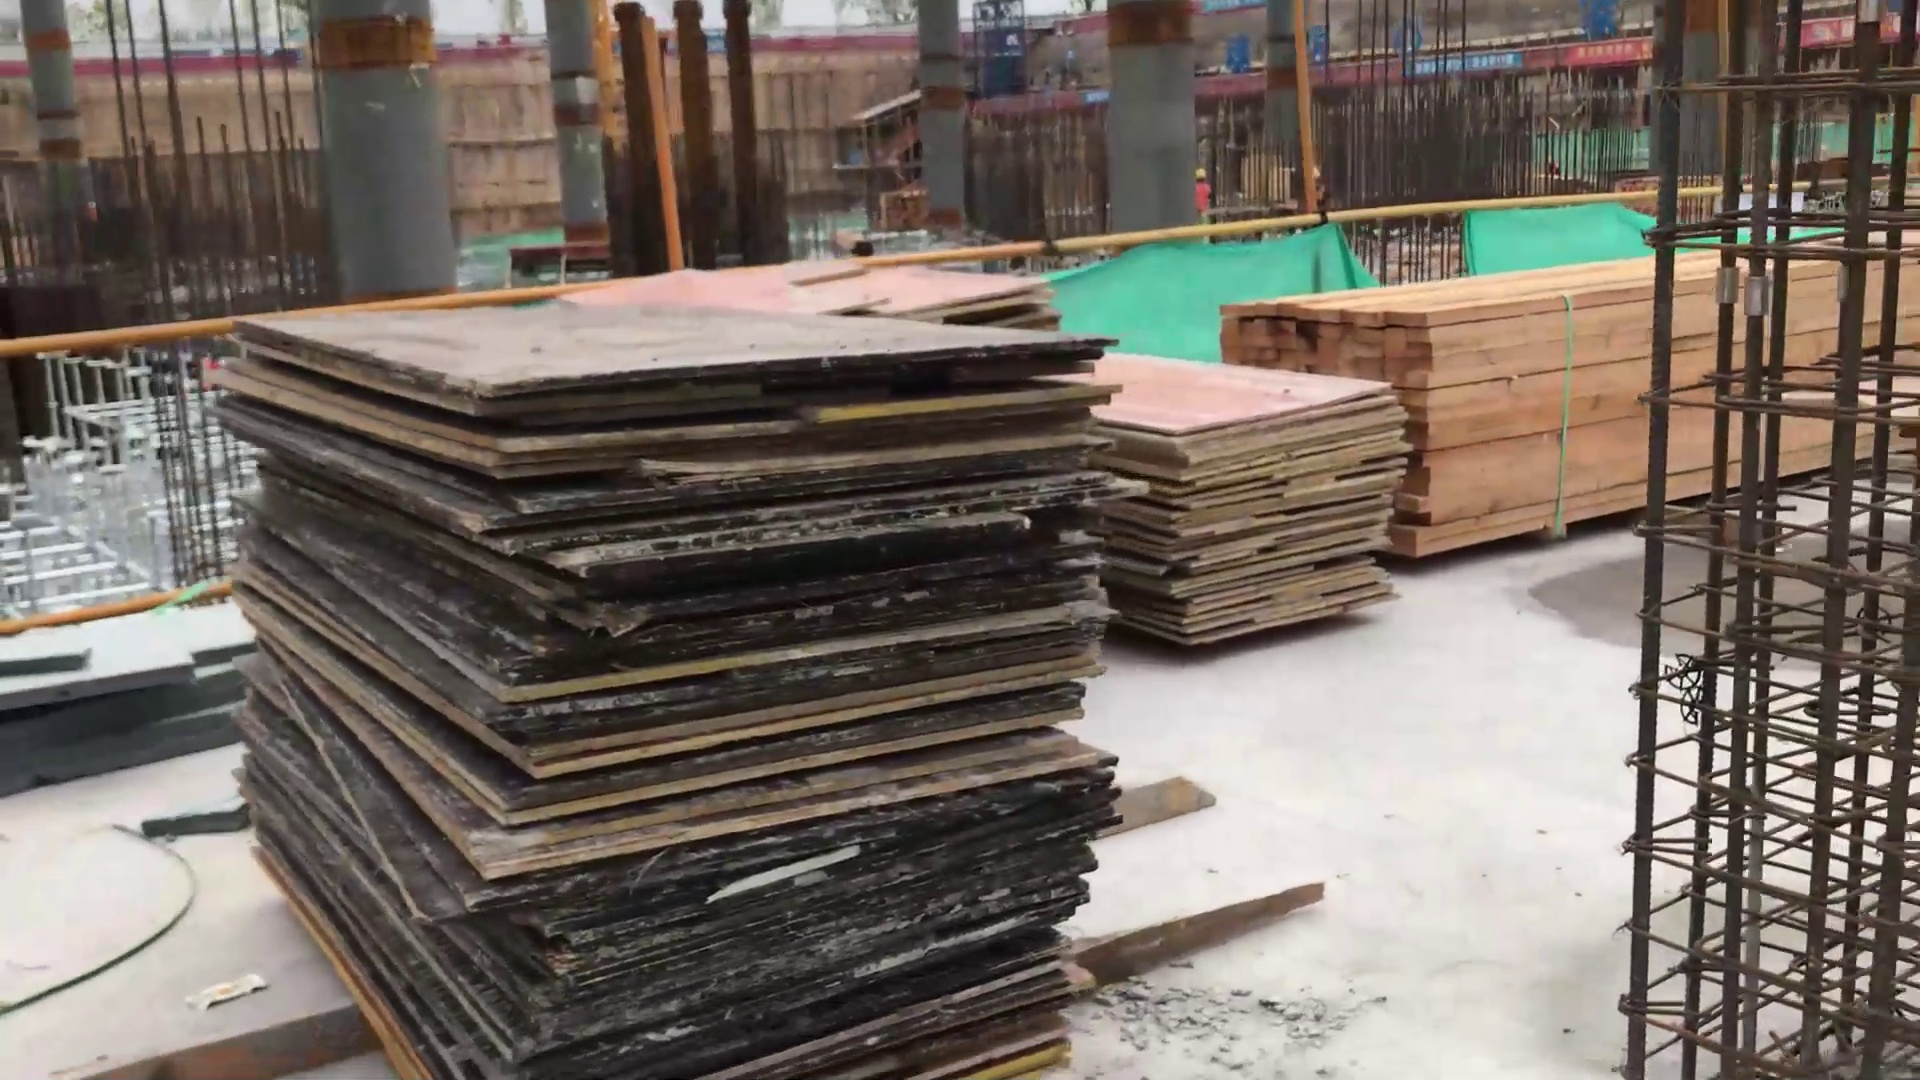helmet: (1305, 165, 1323, 179), (1197, 166, 1206, 182)
person: (1298, 158, 1326, 207), (1192, 172, 1212, 217)
vest: (1306, 183, 1326, 202), (1197, 183, 1211, 210)
